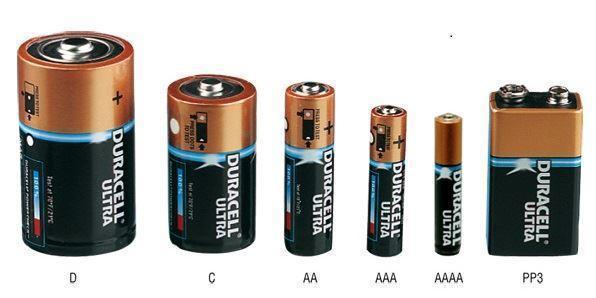9V: (487, 81, 579, 257)
AA: (283, 81, 337, 259)
AAA: (365, 102, 408, 260)
